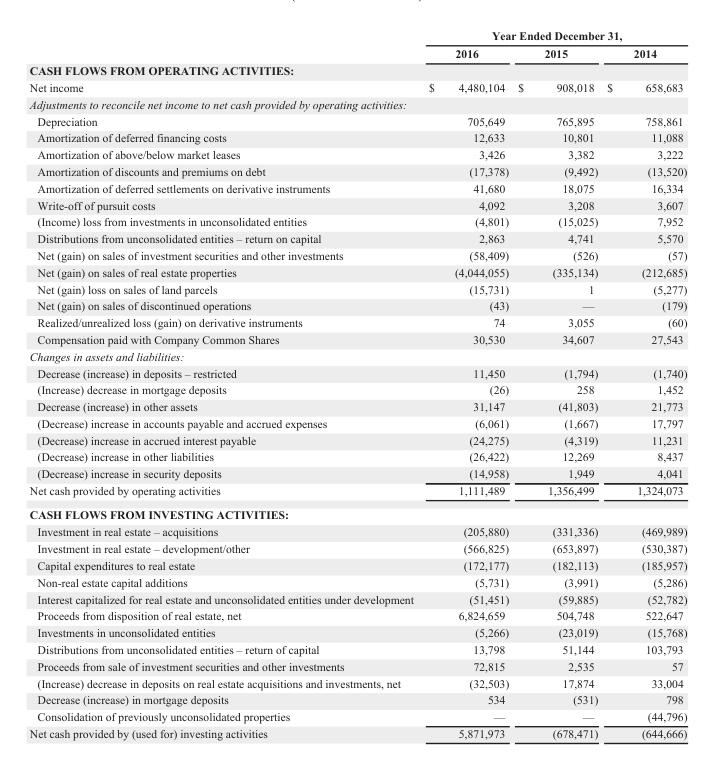table: (28, 28, 686, 739)
table column: (28, 28, 420, 739), (420, 28, 512, 739), (512, 28, 601, 739), (601, 28, 686, 739)
table column header: (28, 28, 686, 61)
table projected row header: (28, 502, 686, 523), (28, 61, 686, 78), (28, 95, 686, 112), (28, 347, 686, 364)
table row: (28, 481, 686, 502), (28, 502, 686, 523), (28, 44, 686, 61), (28, 61, 686, 78), (28, 78, 686, 95), (28, 95, 686, 112), (28, 112, 686, 129), (28, 145, 686, 162), (28, 162, 686, 179), (28, 179, 686, 196), (28, 196, 686, 213), (28, 229, 686, 246), (28, 246, 686, 263), (28, 263, 686, 280), (28, 280, 686, 297), (28, 313, 686, 330), (28, 330, 686, 347), (28, 347, 686, 364), (28, 380, 686, 397), (28, 397, 686, 414), (28, 414, 686, 431), (28, 431, 686, 448), (28, 464, 686, 481), (28, 539, 686, 556), (28, 556, 686, 573), (28, 573, 686, 590), (28, 590, 686, 607), (28, 623, 686, 640), (28, 640, 686, 657), (28, 657, 686, 674), (28, 674, 686, 691), (28, 707, 686, 724), (28, 28, 686, 44), (28, 129, 686, 145), (28, 213, 686, 229), (28, 297, 686, 313), (28, 364, 686, 380), (28, 448, 686, 464), (28, 523, 686, 539), (28, 607, 686, 623), (28, 691, 686, 707), (28, 724, 686, 739)
table spanning cell: (420, 28, 686, 44)
